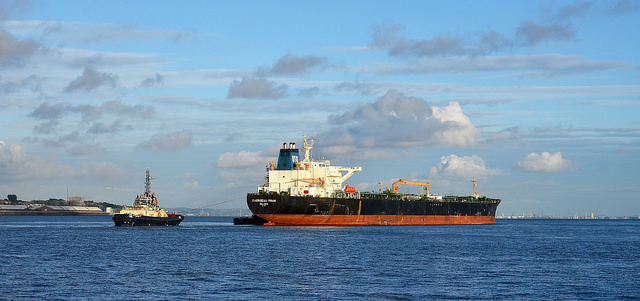tanker: (247, 138, 503, 229)
tug_boat: (113, 169, 187, 226)
